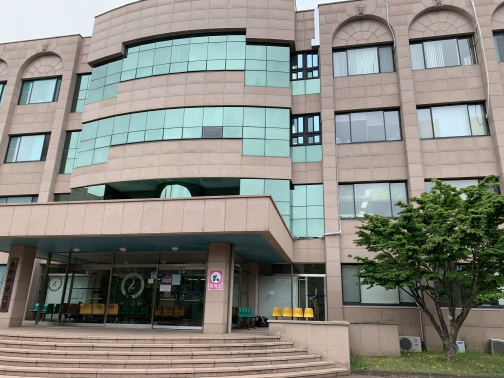Natural Science2: (25, 2, 361, 378)
